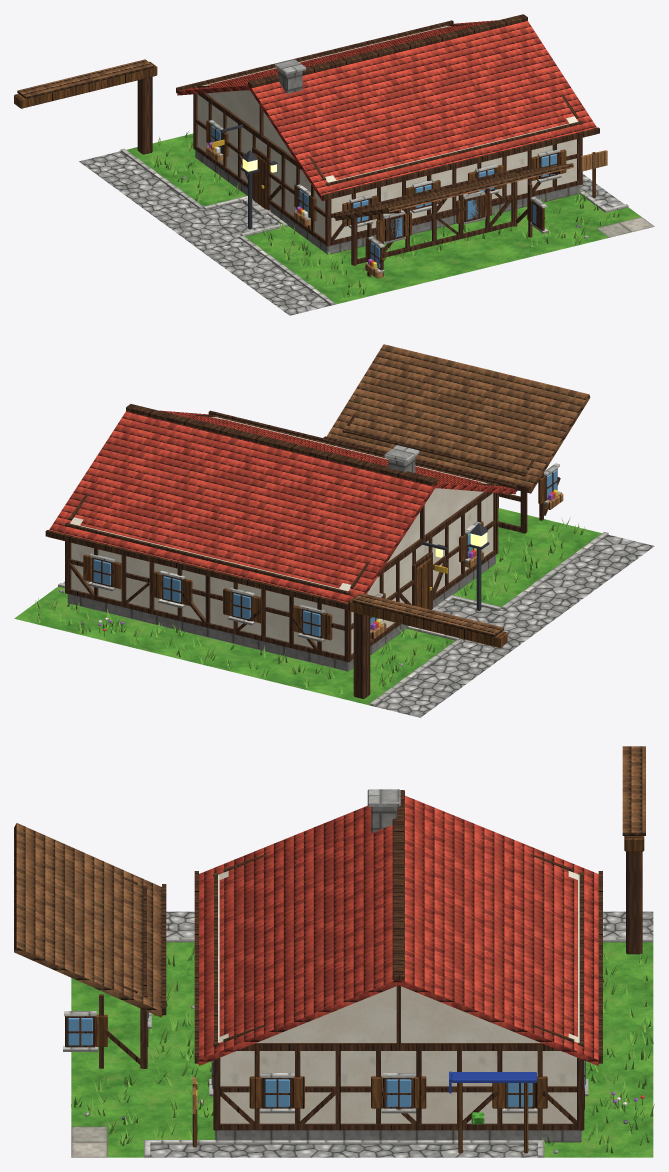
Rendered from chunk_6_9.glb.
3 renders of one model, top to bottom at view 1: azimuth 30°, elevation 25°; view 2: azimuth 150°, elevation 25°; view 3: azimuth 270°, elevation 25°, orthographic. The views are drawn at different scales.
Parts seen in each view (by area): view 1: chunk_6_9; view 2: chunk_6_9; view 3: chunk_6_9.
Boxes of the visible parts, bbox=[...] form: chunk_6_9: bbox=[14, 14, 654, 315]; chunk_6_9: bbox=[14, 344, 654, 717]; chunk_6_9: bbox=[14, 746, 654, 1157].
Bounding box in the file's own units: 19.12 × 5.89 × 17.62.
Materials: 25 (15 with a texture image).
